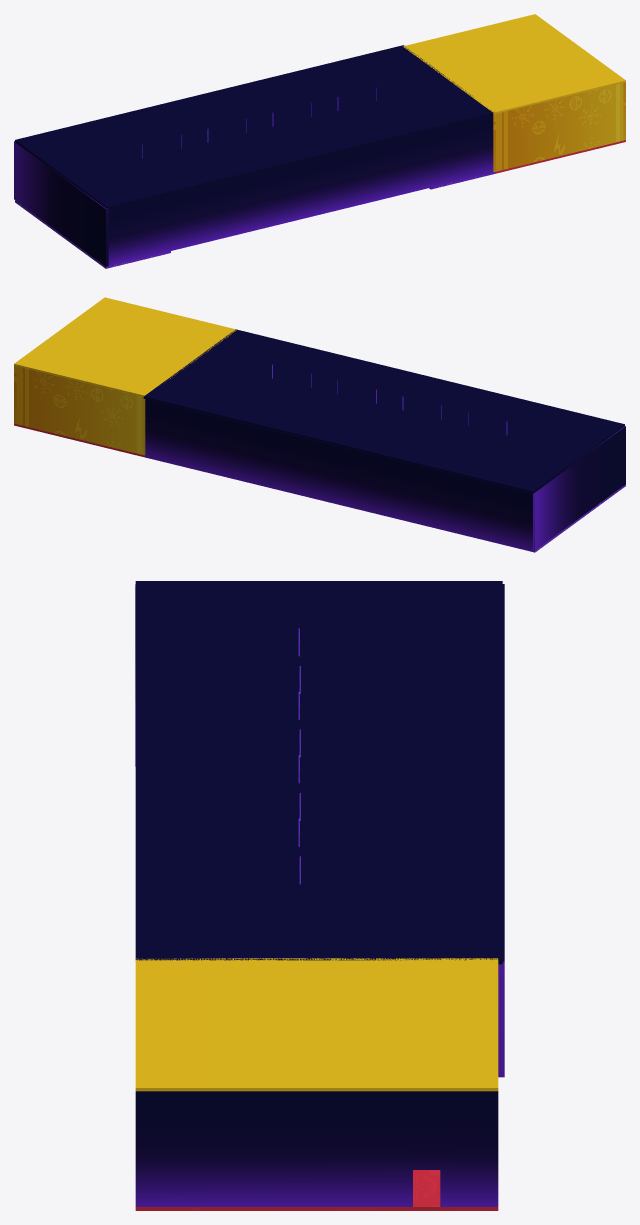
File: Stage1.gltf
The picture shows the model from 3 angles, top to bottom: view 1: azimuth 30°, elevation 25°; view 2: azimuth 150°, elevation 25°; view 3: azimuth 270°, elevation 25°; orthographic projection. The views are drawn at different scales.
Parts seen in each view (by area): view 1: StudioCeiling, Cube.013-convcol, WelcomeCeiling, Cube.116-convcol, Cube.010-convcol; view 2: StudioCeiling, Cube.137-convcol, WelcomeCeiling, Cube.138-convcol, Cube.010-convcol; view 3: StudioCeiling, WelcomeCeiling, Cube.002-col, Cube.137-convcol, Cube.030.
Boxes of the visible parts, <box> form: StudioCeiling: <box>15,45,494,208</box>; Cube.013-convcol: <box>108,114,493,265</box>; WelcomeCeiling: <box>403,14,625,114</box>; Cube.116-convcol: <box>496,83,623,171</box>; Cube.010-convcol: <box>15,142,108,266</box>; StudioCeiling: <box>143,329,624,493</box>; Cube.137-convcol: <box>145,399,534,551</box>; WelcomeCeiling: <box>14,297,236,396</box>; Cube.138-convcol: <box>16,366,144,455</box>; Cube.010-convcol: <box>534,426,625,550</box>; StudioCeiling: <box>135,581,502,964</box>; WelcomeCeiling: <box>135,958,498,1091</box>; Cube.002-col: <box>135,1091,498,1206</box>; Cube.137-convcol: <box>498,584,504,1077</box>; Cube.030: <box>380,1170,498,1210</box>.
Size of what is drawn, in the model's own units: 111 by 15.44 by 34.24.
